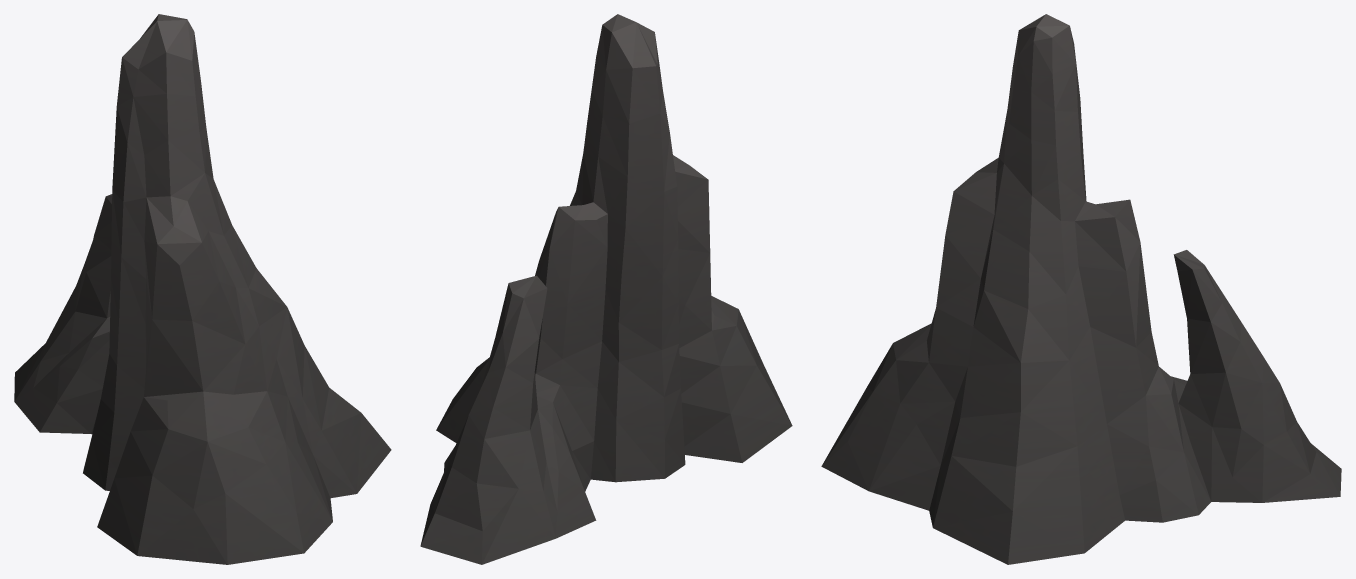
Rendered from ZLP_Rock_D_17.FBX.
3 renders of one model, left to right at view 1: azimuth 30°, elevation 25°; view 2: azimuth 150°, elevation 25°; view 3: azimuth 270°, elevation 25°, orthographic. The views are drawn at different scales.
Visible parts, largest first — view 1: ZLP_Rock_D_17; view 2: ZLP_Rock_D_17; view 3: ZLP_Rock_D_17.
Boxes of the visible parts, x1,y1,x2,y2 form: ZLP_Rock_D_17: [14, 14, 391, 564]; ZLP_Rock_D_17: [420, 14, 792, 564]; ZLP_Rock_D_17: [821, 14, 1341, 564].
Size of the model in its own units: 219 by 317 by 332.
